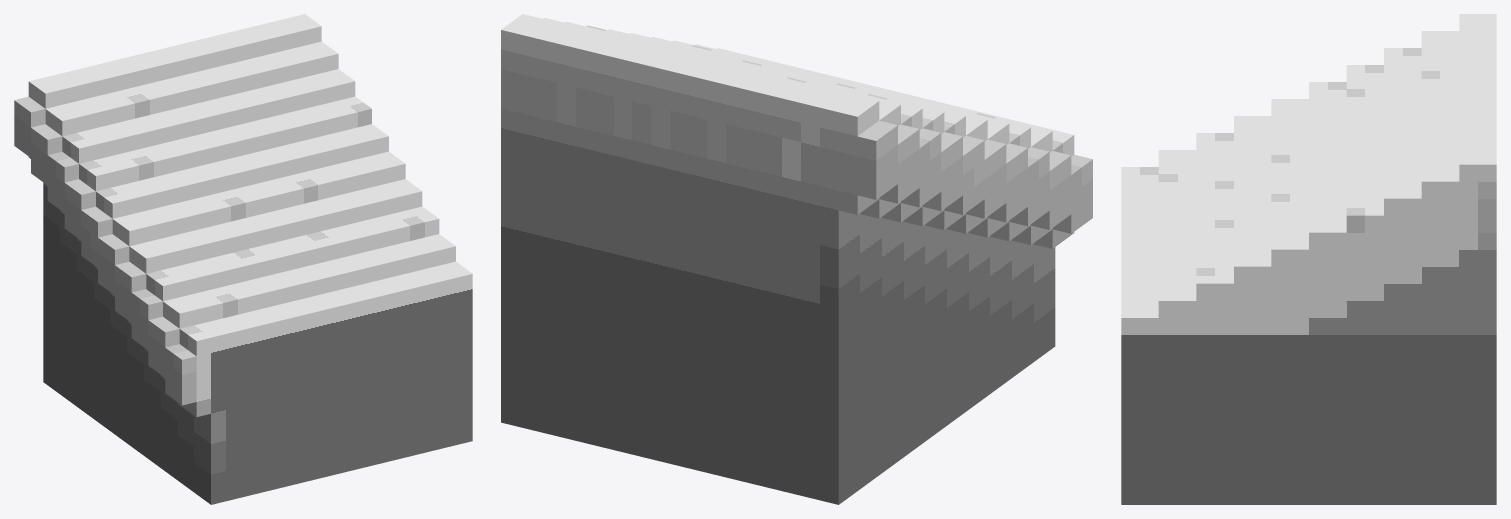
File: half_ramp_full_left.glb
3 views of the same model, side by side, from view 1: azimuth 30°, elevation 25°; view 2: azimuth 150°, elevation 25°; view 3: azimuth 270°, elevation 25° (orthographic). The views are drawn at different scales.
Parts seen in each view (by area): view 1: half_ramp_full_left; view 2: half_ramp_full_left; view 3: half_ramp_full_left.
Part boxes in pixels (x1,y1,x2,y2): half_ramp_full_left: (14,14,472,504); half_ramp_full_left: (501,14,1092,504); half_ramp_full_left: (1121,14,1496,504).
Size of the model in its own units: 2 by 2 by 2.
Materials: 1 (1 with a texture image).
